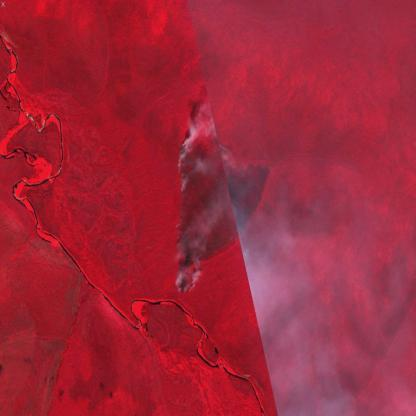fire: (172, 113, 234, 296)
